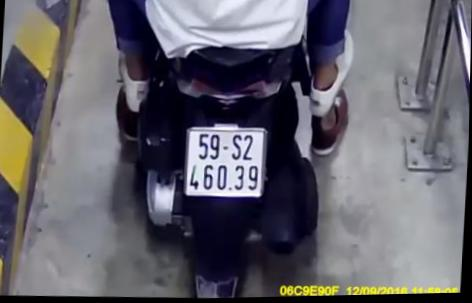LP: (184, 126, 267, 199)
